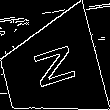N_W: (24, 43, 78, 95)
